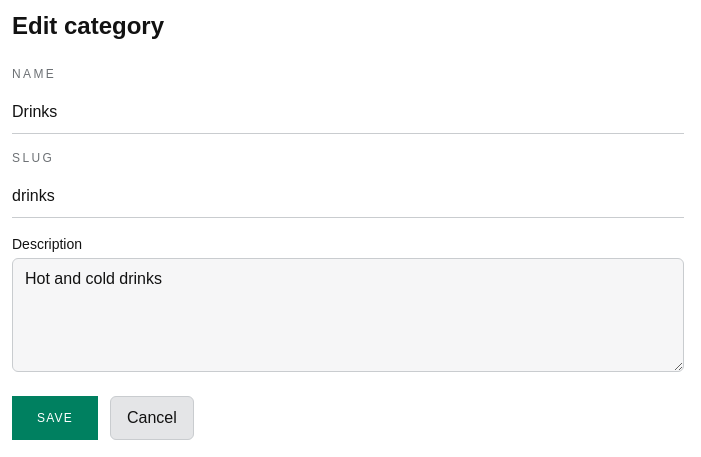
Test case: EditCategoryPage › updates the slug when the name changes
Replace the text in the field labelled "Name" with "Cold Drinks" at (348, 112), box [12,90,684,134]
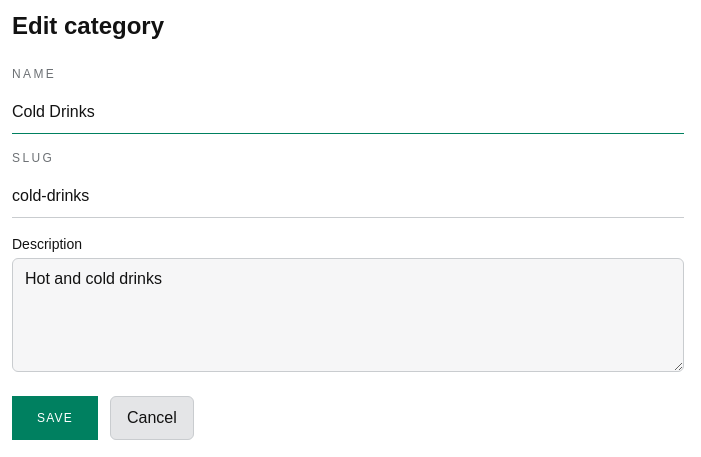
Check: the field labelled "Slug" holds "cold-drinks", box [12,174,684,218]
